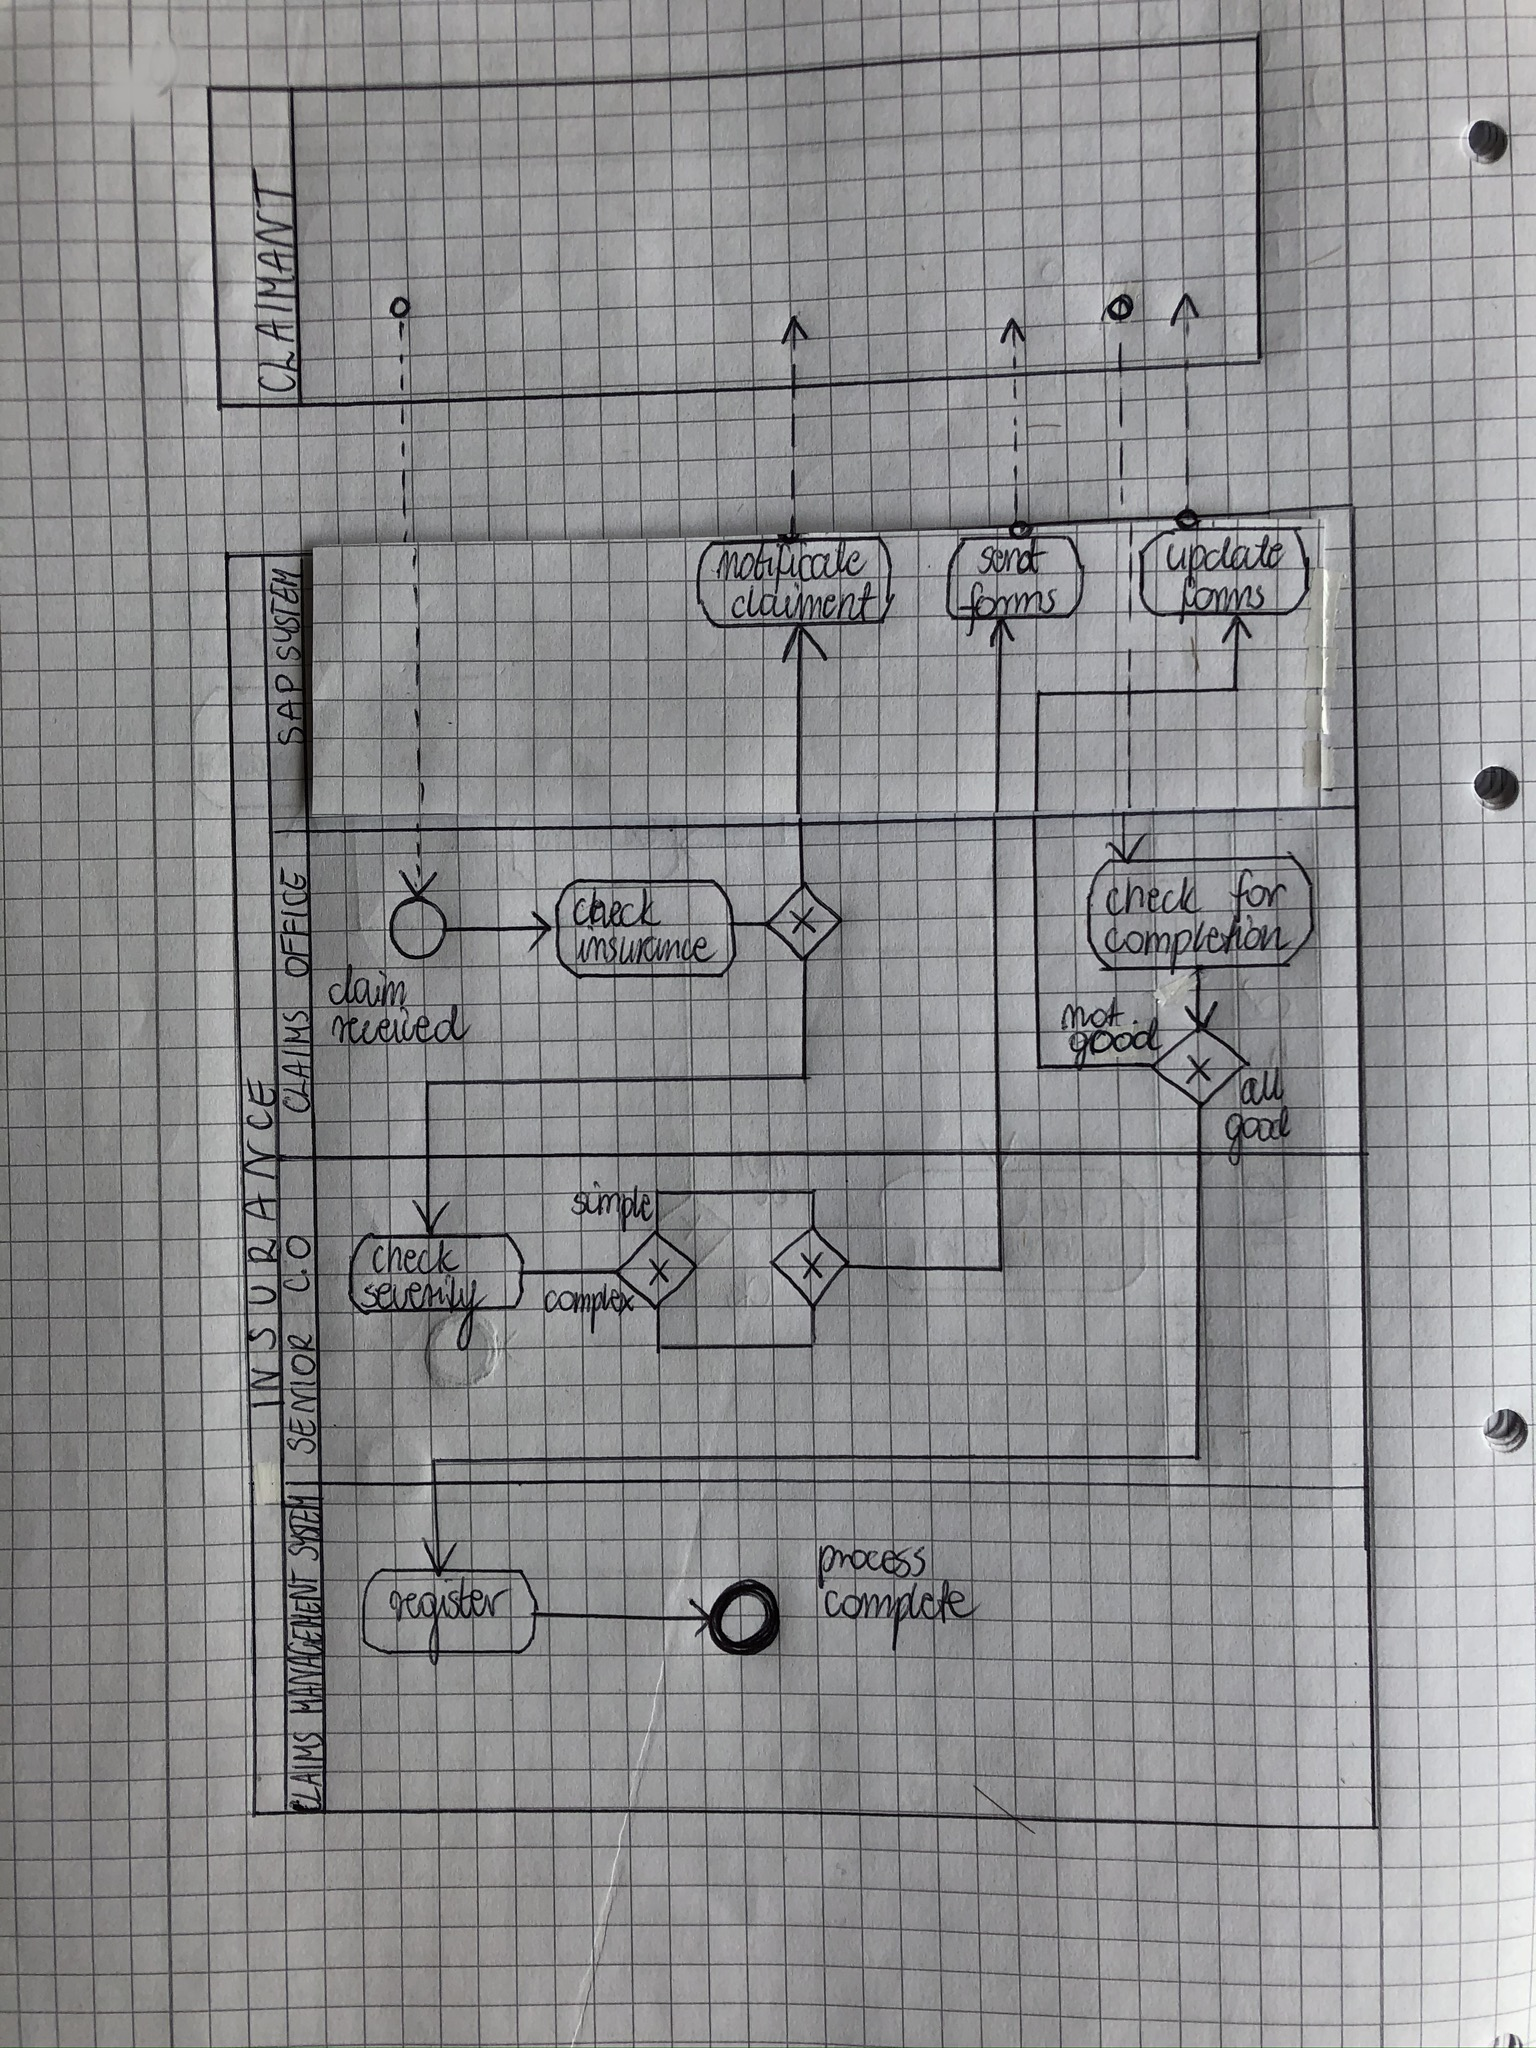C.O: (278, 1227, 311, 1297)
CLAIMANT: (248, 169, 302, 402)
CLAIMS: (274, 1005, 313, 1116), (286, 1724, 328, 1817)
INSURANCE: (240, 1071, 286, 1421)
MANAGEMENT: (282, 1571, 328, 1717)
OFFICE: (274, 864, 313, 974)
SAP: (269, 668, 307, 743)
SENIOR: (279, 1329, 324, 1456)
SYSTEM: (269, 564, 307, 663), (282, 1492, 324, 1564)
all: (1241, 1066, 1283, 1109)
check: (365, 1240, 468, 1279), (1104, 877, 1202, 914), (571, 890, 658, 927)
claim: (326, 968, 410, 1009)
claimant: (729, 582, 879, 626)
complete: (818, 1585, 976, 1625)
completion: (1099, 916, 1294, 963)
complex: (541, 1279, 637, 1322)
for: (1226, 869, 1288, 918)
forms: (1179, 572, 1265, 610), (970, 582, 1055, 618)
good: (1217, 1105, 1291, 1156), (1070, 1026, 1162, 1058)
insurance: (568, 930, 721, 968)
not: (1070, 1001, 1117, 1035)
notificate: (716, 540, 871, 587)
process: (815, 1543, 929, 1582)
received: (326, 1008, 470, 1050)
register: (387, 1579, 510, 1624)
send: (971, 540, 1046, 579)
severity: (360, 1272, 487, 1309)
simple: (565, 1184, 655, 1229)
update: (1168, 537, 1283, 571)
